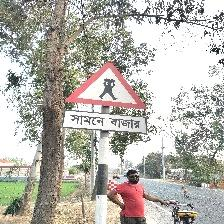Market-in-front: (62, 61, 148, 134)
